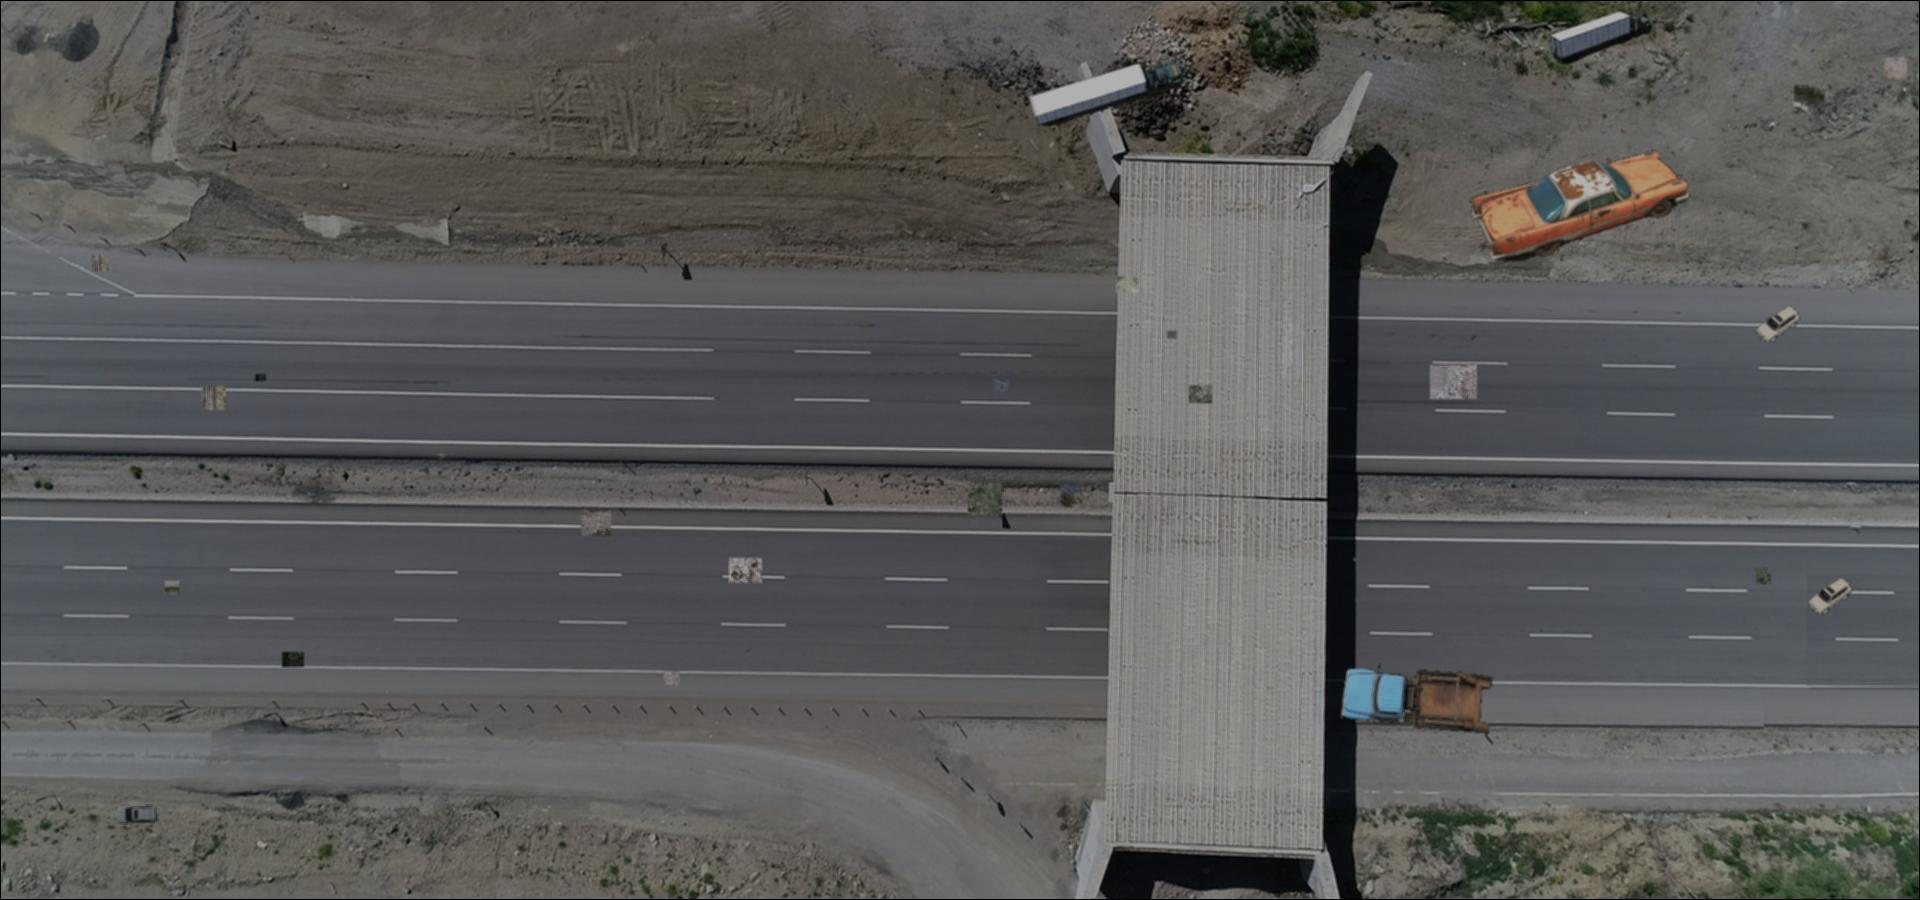arac: (1458, 147, 1702, 261), (1336, 664, 1494, 735), (1025, 56, 1185, 126), (1547, 12, 1653, 64), (1756, 306, 1801, 342), (1809, 578, 1853, 613), (114, 803, 159, 825)
